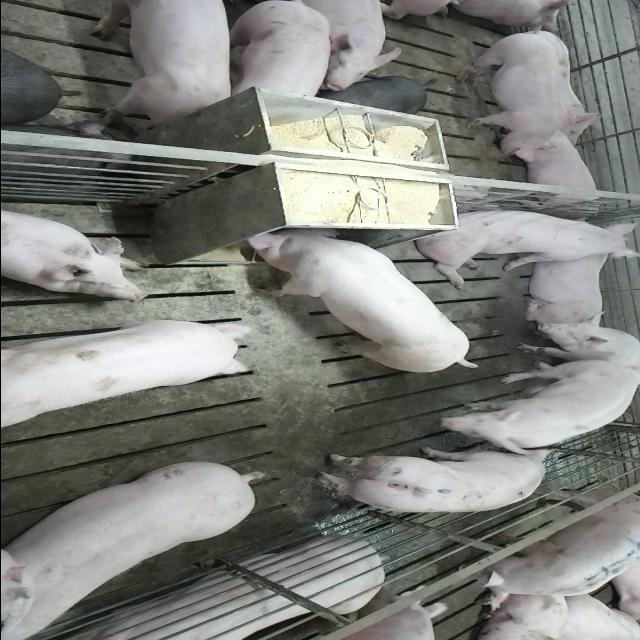Feeding: (242, 220, 478, 370)
Sitting: (412, 204, 636, 286), (510, 318, 638, 370)
Standing: (5, 456, 268, 634), (0, 318, 254, 443), (447, 490, 640, 610), (397, 354, 636, 450), (85, 2, 236, 128), (312, 447, 552, 515), (450, 28, 562, 158), (225, 2, 331, 100)
Sternal_lying: (58, 538, 456, 640), (0, 203, 149, 299), (507, 132, 603, 210), (518, 247, 610, 326)
